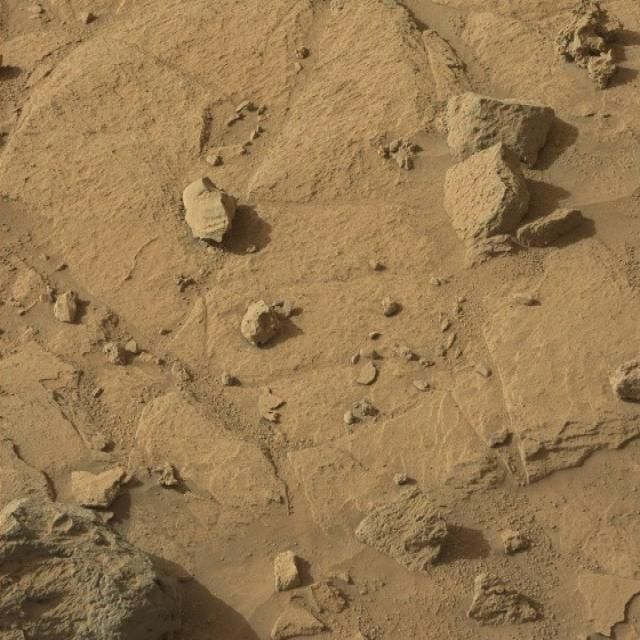mars-rocks: (445, 142, 531, 242), (448, 92, 555, 167), (183, 177, 236, 242), (71, 467, 125, 508)
